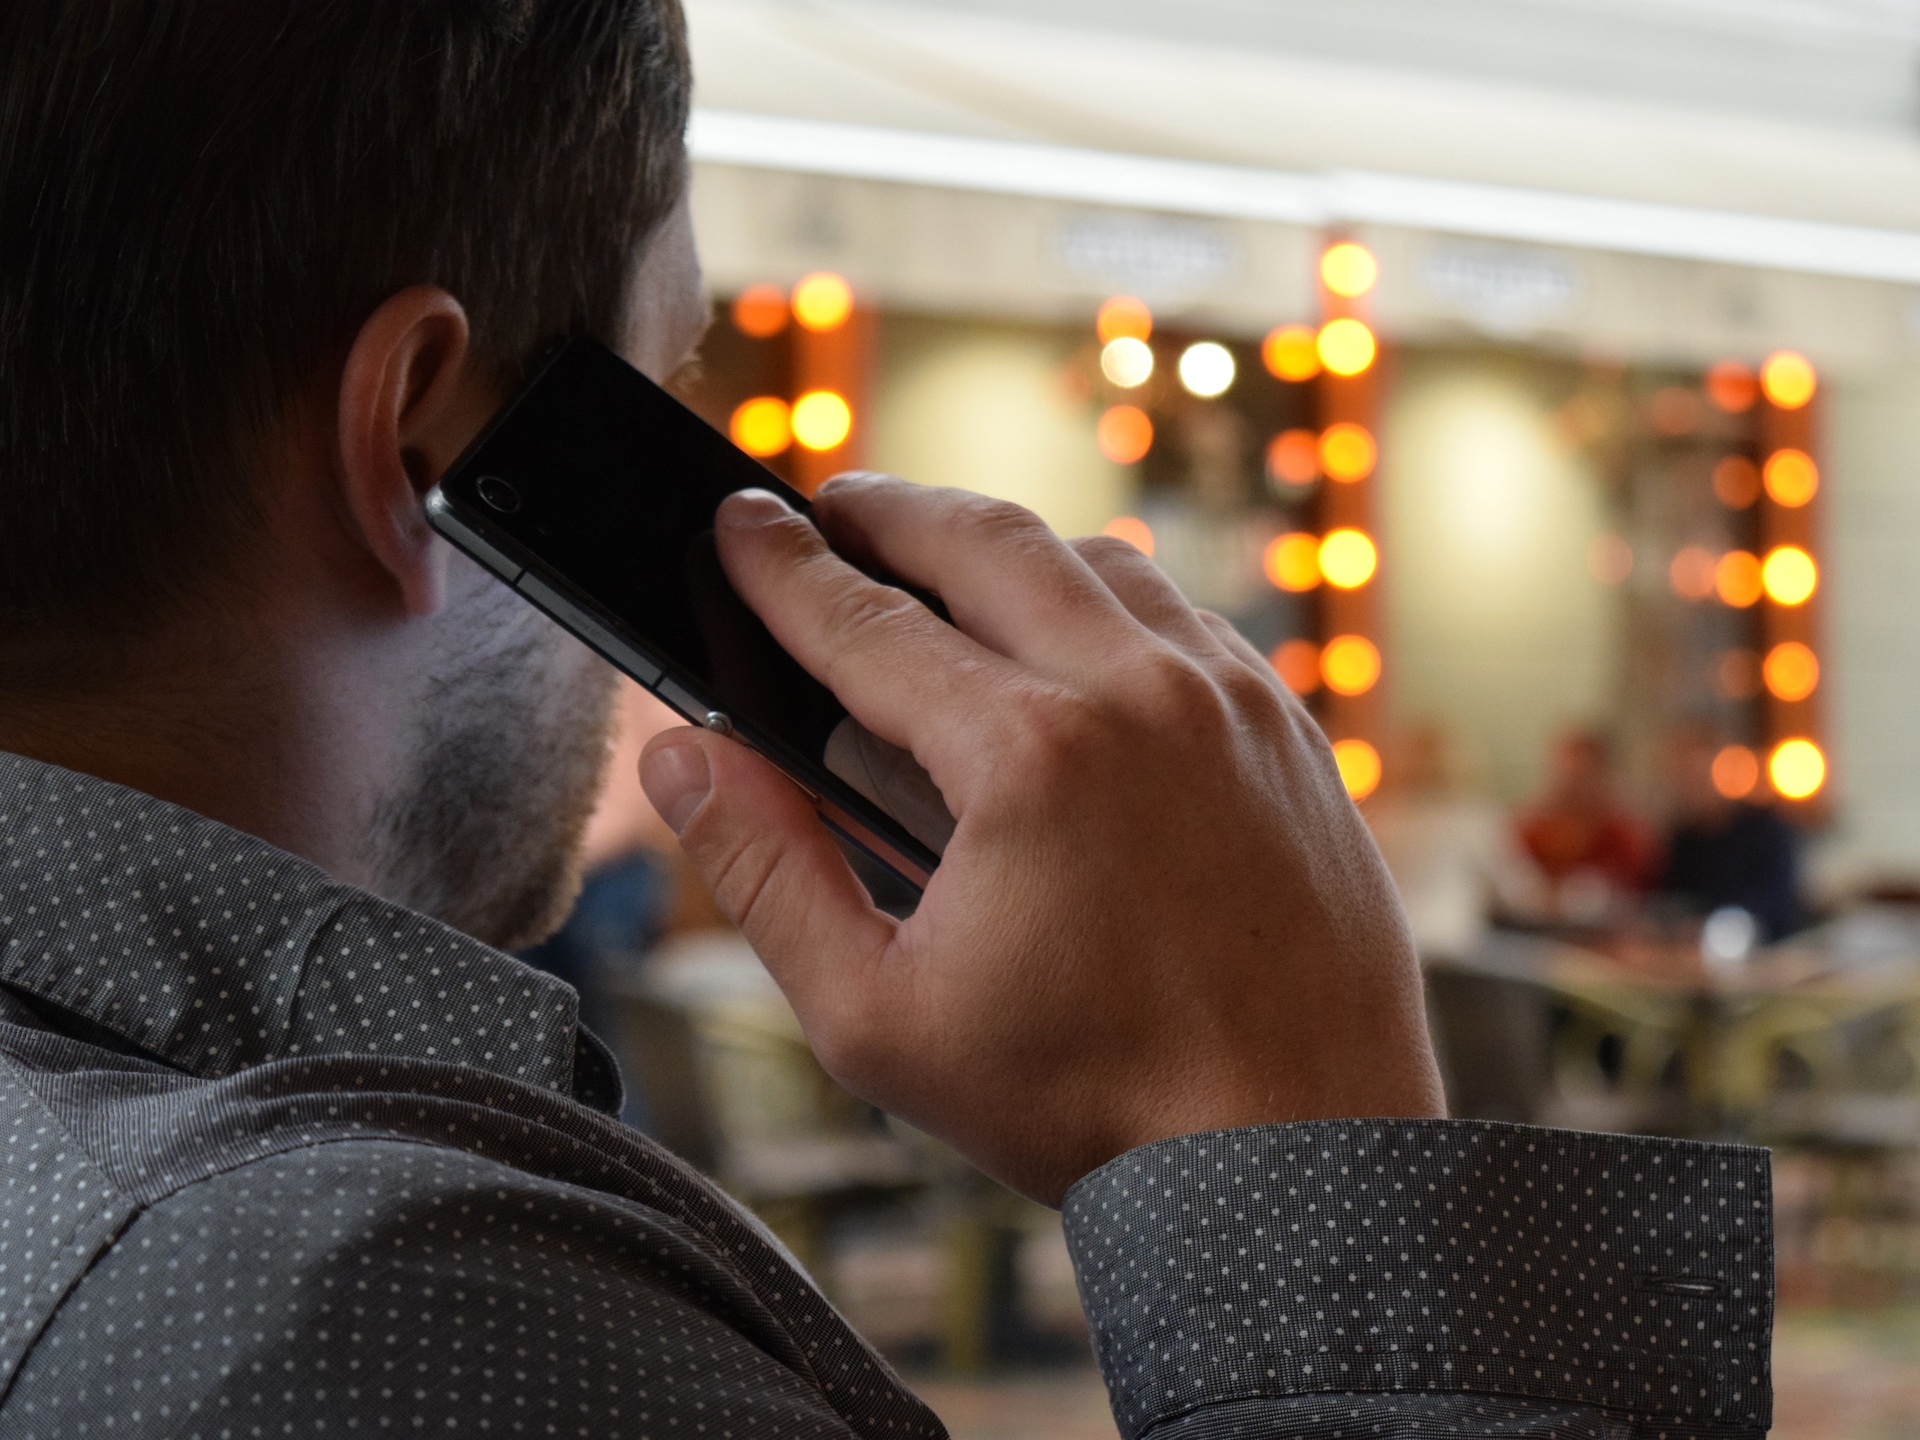smartphone: (423, 330, 958, 895)
